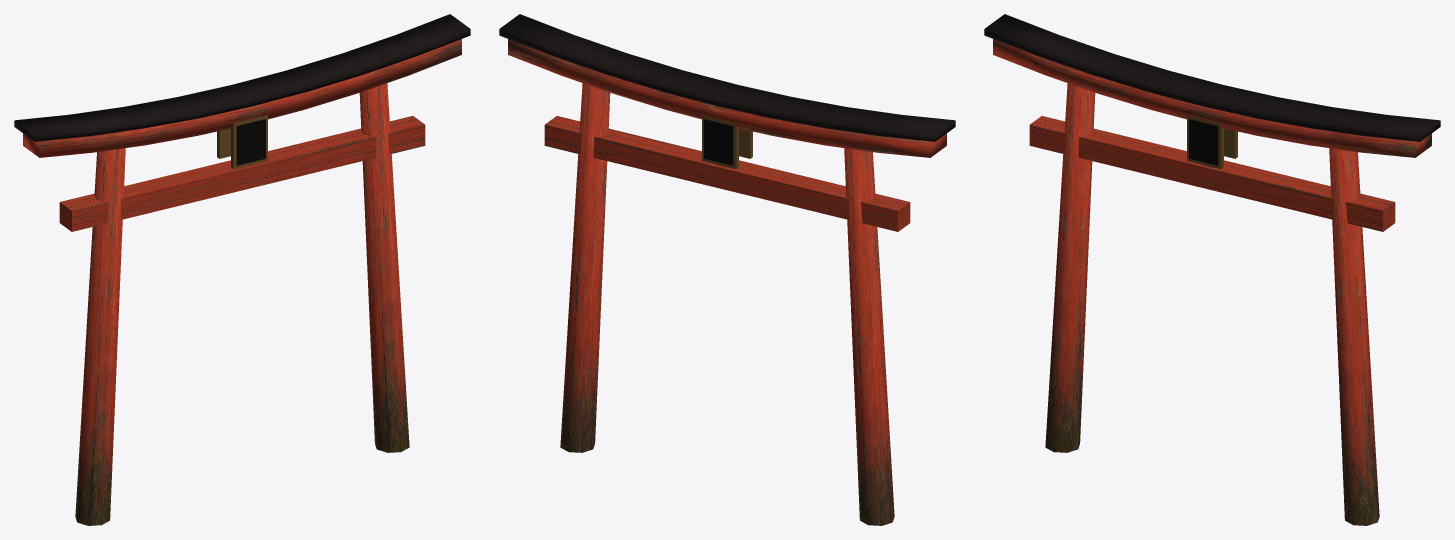
The model's file is nyanisyarud-yokai-torii.glb.
3 views of the same model, side by side, from view 1: azimuth 30°, elevation 25°; view 2: azimuth 150°, elevation 25°; view 3: azimuth 330°, elevation 25° (orthographic).
Parts seen in each view (by area): view 1: Old_Vermilion_Torii_Single_Gate; view 2: Old_Vermilion_Torii_Single_Gate; view 3: Old_Vermilion_Torii_Single_Gate.
Boxes of the visible parts, bbox=[...] form: Old_Vermilion_Torii_Single_Gate: bbox=[14, 14, 470, 525]; Old_Vermilion_Torii_Single_Gate: bbox=[499, 14, 955, 525]; Old_Vermilion_Torii_Single_Gate: bbox=[984, 14, 1440, 525].
Bounding box in the file's own units: 5.18 × 4.63 × 0.42.
1 material, 1 textured.
